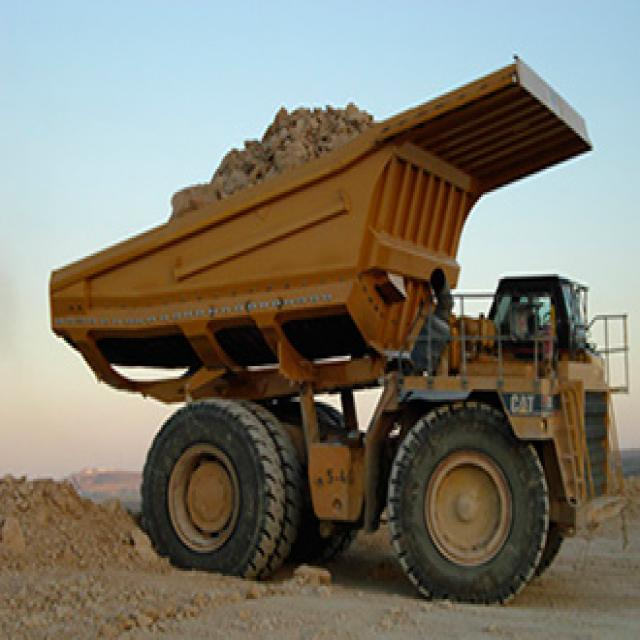dump_truck: (43, 38, 626, 614)
